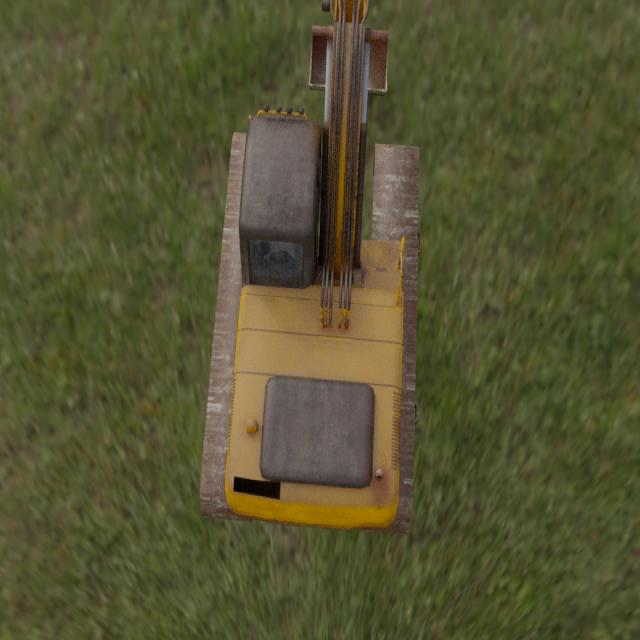excavator: (199, 0, 421, 537)
